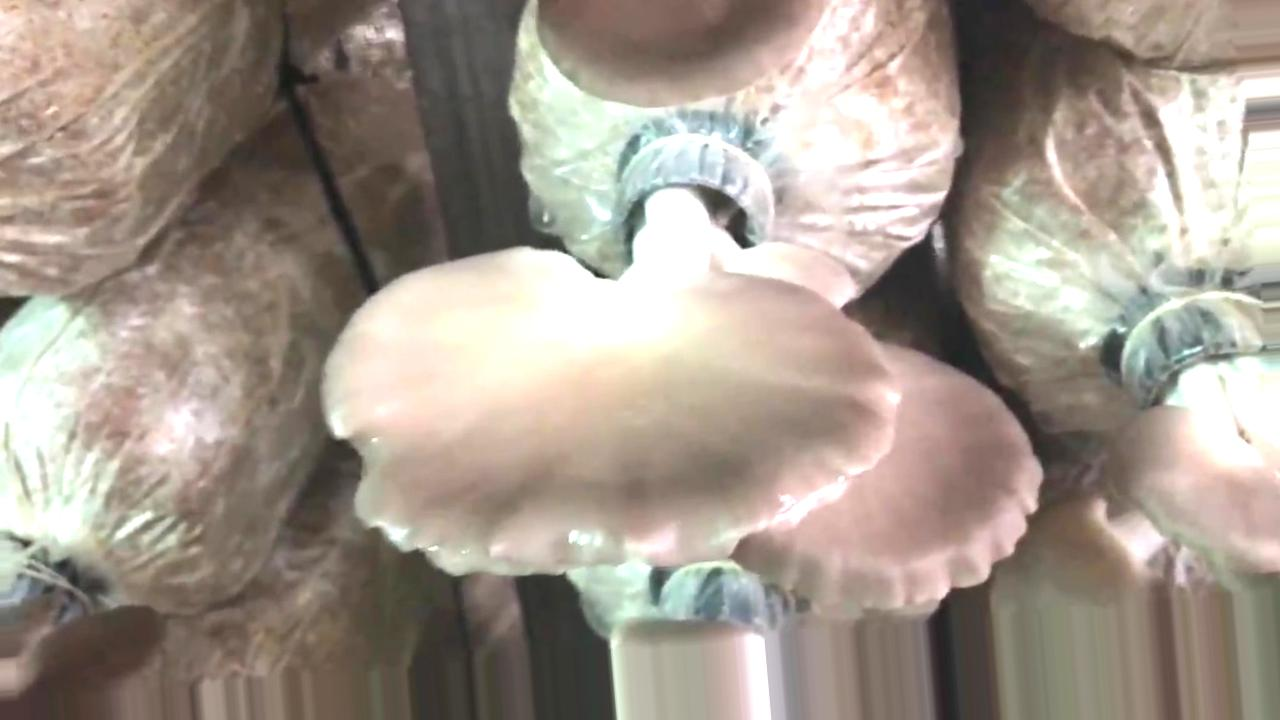nam: (320, 113, 902, 580), (735, 341, 1046, 618), (1027, 287, 1280, 606), (535, 2, 830, 113)
